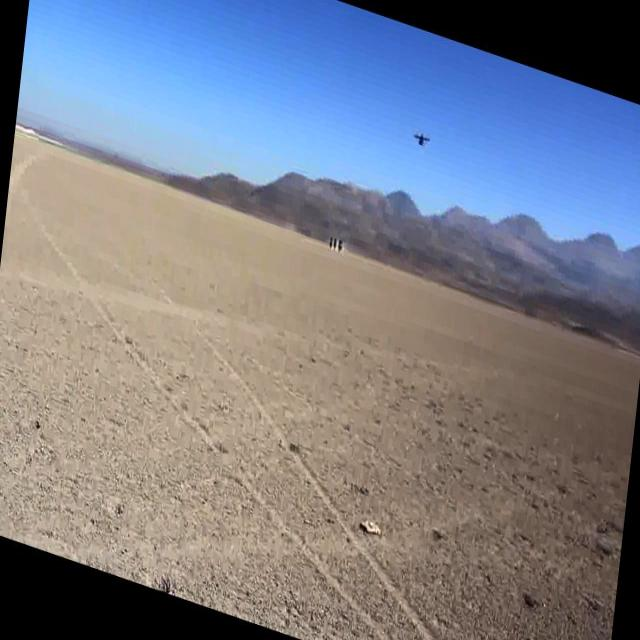drone: (411, 120, 435, 158)
